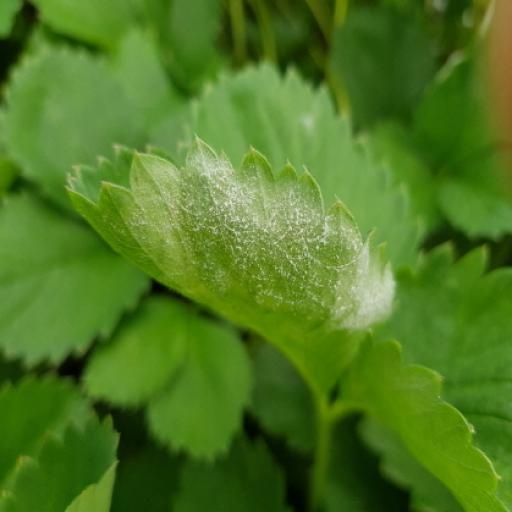Powdery Mildew Leaf: (111, 131, 449, 397)
